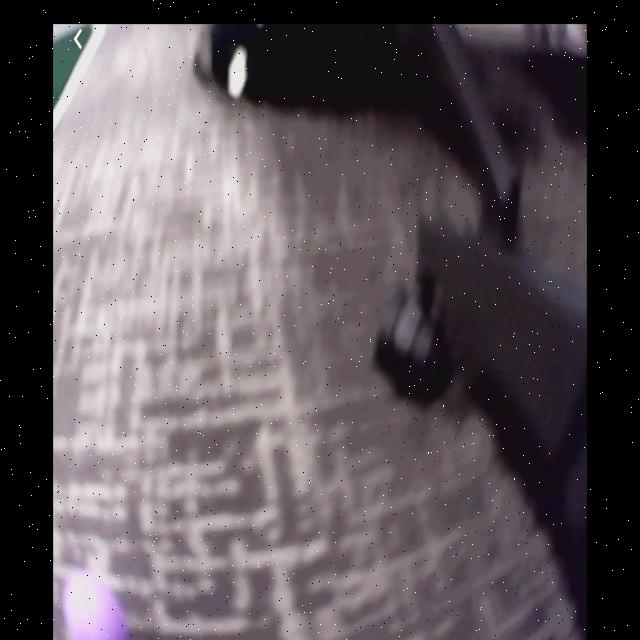ball: (54, 576, 133, 640)
